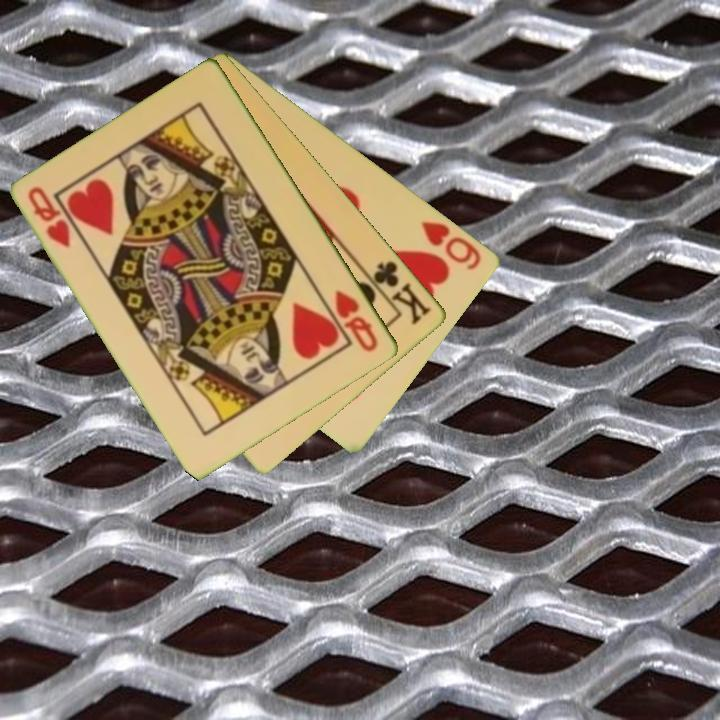6h: (418, 217, 485, 273)
Kc: (362, 257, 435, 328)
Qh: (331, 286, 381, 355), (24, 183, 74, 251)
